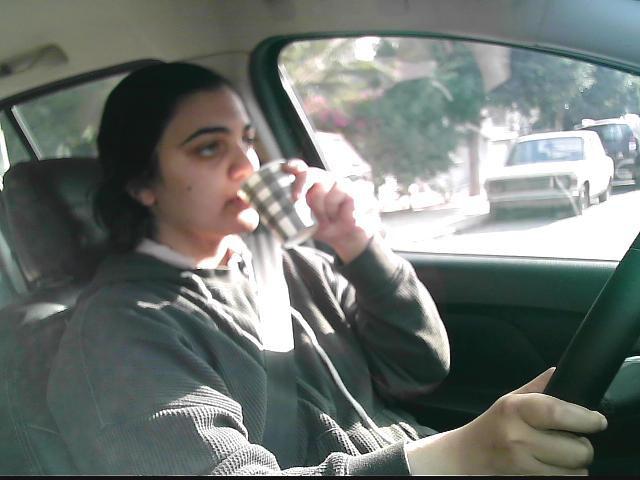Drinking: (228, 158, 325, 255)
